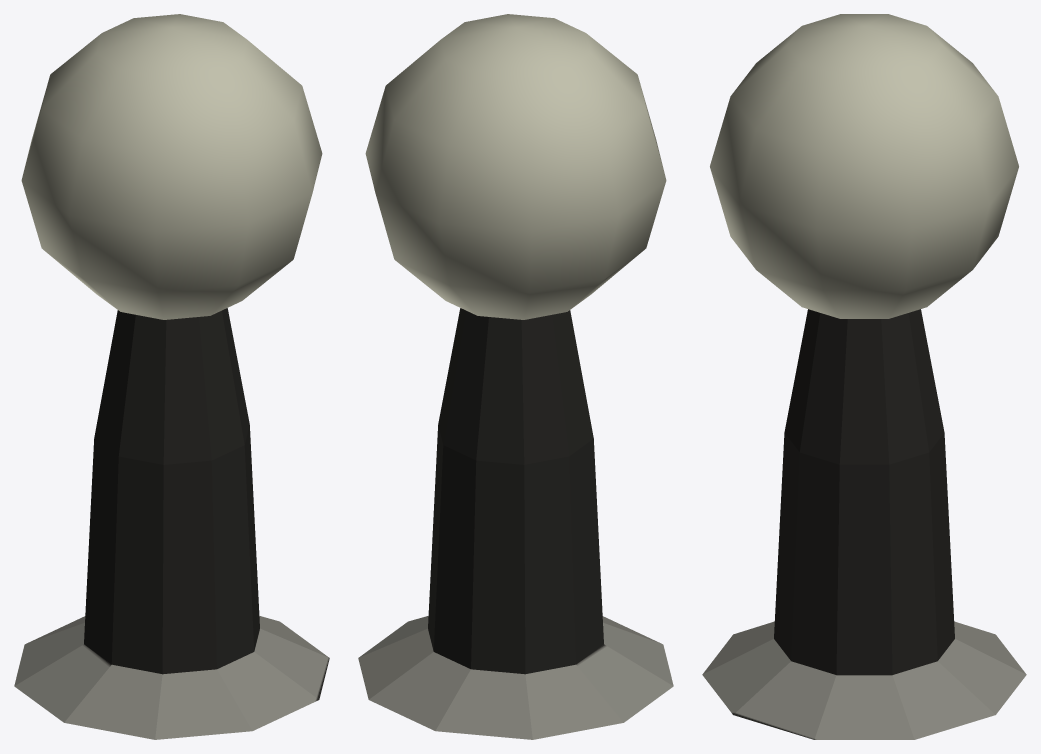
The model's file is uglyStatue.obj.
The picture shows the model from 3 angles, left to right: view 1: azimuth 30°, elevation 25°; view 2: azimuth 150°, elevation 25°; view 3: azimuth 270°, elevation 25°; orthographic projection.
Visible parts, largest first — view 1: Sphere.001, Sphere; view 2: Sphere.001, Sphere; view 3: Sphere.001, Sphere.
Part boxes in pixels (x1,y1,x2,y2): Sphere.001: (14, 308, 329, 739); Sphere: (21, 14, 322, 319); Sphere.001: (358, 308, 673, 739); Sphere: (365, 14, 666, 319); Sphere.001: (702, 309, 1026, 739); Sphere: (710, 14, 1018, 318).
Size of the model in its own units: 1.99 by 4.62 by 2.1.
Materials: 2 (2 with a texture image).
